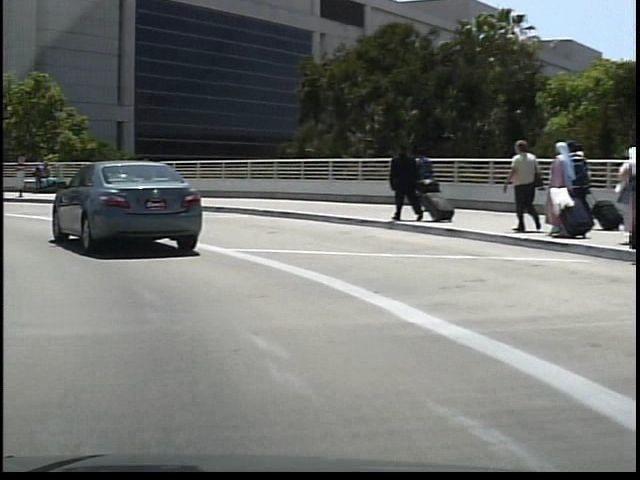person: (497, 133, 540, 236), (382, 139, 421, 223), (617, 119, 640, 252), (410, 144, 436, 214)
